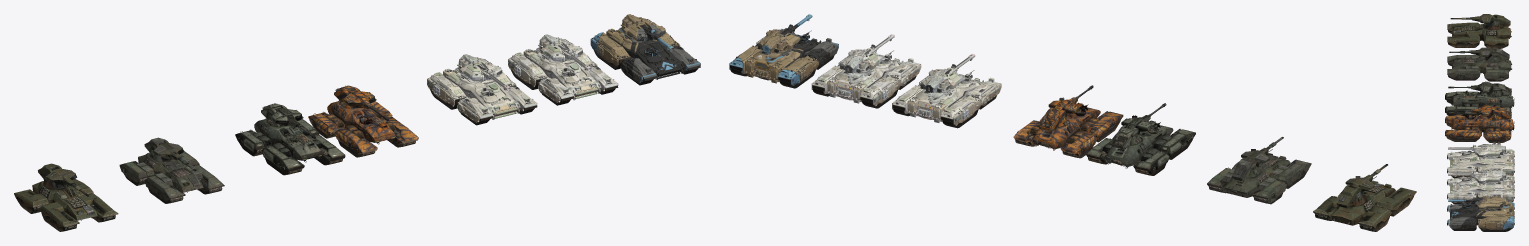
File: scorpion-ground-vehicle.glb
3 renders of one model, left to right at view 1: azimuth 30°, elevation 25°; view 2: azimuth 150°, elevation 25°; view 3: azimuth 270°, elevation 25°, orthographic. The views are drawn at different scales.
Visible parts, largest first — view 1: Object_14, Object_2, Object_3, Object_15, Object_12, Object_8, Object_10, Object_11, Object_13, Object_9, Object_20, Object_4 (+4 smaller); view 2: Object_14, Object_2, Object_3, Object_15, Object_8, Object_12, Object_10, Object_11, Object_13, Object_9, Object_20, Object_4 (+2 smaller); view 3: Object_14, Object_3, Object_15, Object_13, Object_2, Object_9, Object_12, Object_11, Object_10, Object_8, Object_5, Object_4 (+5 smaller).
Part boxes in pixels (<box>): Object_14: <box>14,163,118,231</box>; Object_2: <box>235,103,345,174</box>; Object_3: <box>308,85,418,156</box>; Object_15: <box>119,137,224,203</box>; Object_12: <box>590,14,687,82</box>; Object_8: <box>508,34,604,102</box>; Object_10: <box>427,54,524,122</box>; Object_11: <box>443,62,537,119</box>; Object_13: <box>606,22,700,79</box>; Object_9: <box>523,42,618,100</box>; Object_20: <box>430,49,698,125</box>; Object_4: <box>261,103,315,138</box>; Object_14: <box>1313,164,1416,231</box>; Object_2: <box>1086,118,1195,175</box>; Object_3: <box>1013,101,1123,157</box>; Object_15: <box>1207,150,1311,203</box>; Object_8: <box>824,34,921,106</box>; Object_12: <box>742,14,838,85</box>; Object_10: <box>904,54,1001,125</box>; Object_11: <box>892,67,990,126</box>; Object_13: <box>729,28,827,86</box>; Object_9: <box>811,48,909,106</box>; Object_20: <box>730,55,996,128</box>; Object_4: <box>1111,103,1166,148</box>; Object_14: <box>1447,14,1511,48</box>; Object_3: <box>1445,104,1514,142</box>; Object_15: <box>1447,48,1511,81</box>; Object_13: <box>1447,203,1514,229</box>; Object_2: <box>1445,81,1514,115</box>; Object_9: <box>1447,177,1514,202</box>; Object_12: <box>1447,195,1514,230</box>; Object_11: <box>1447,151,1514,177</box>; Object_10: <box>1447,142,1514,177</box>; Object_8: <box>1447,168,1514,202</box>; Object_5: <box>1448,105,1511,119</box>; Object_4: <box>1448,82,1511,96</box>.
Bounding box in the file's own units: 270 × 17.61 × 38.49.
Materials: 16 (16 with a texture image).
